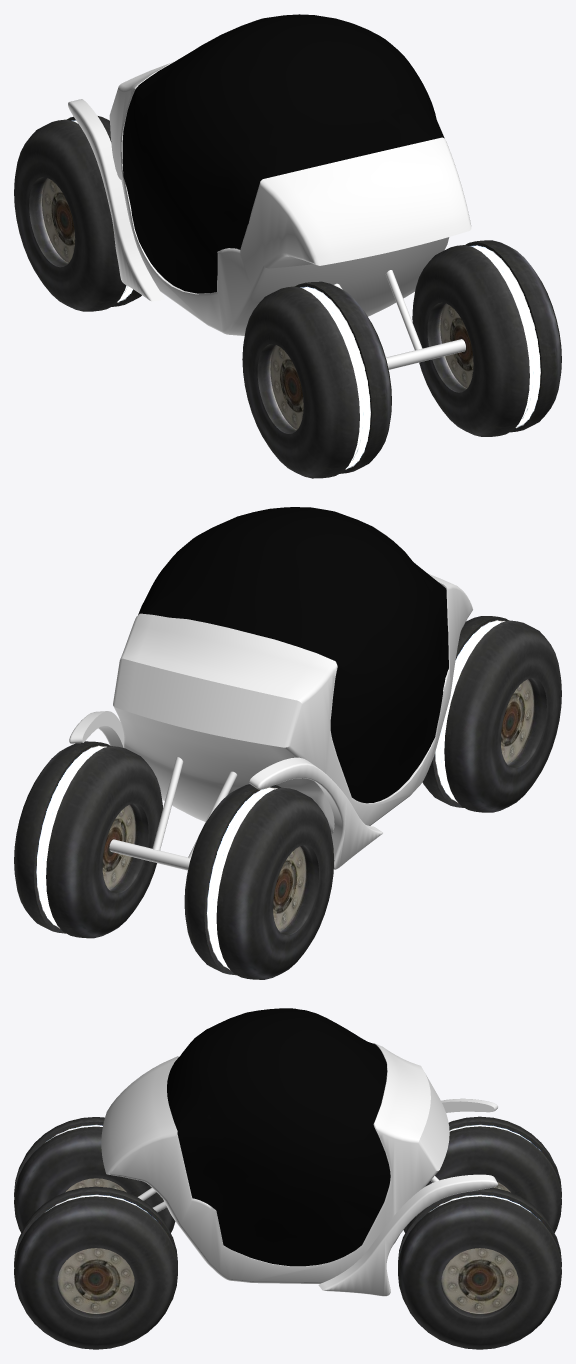
The model's file is car.glb.
3 views of the same model, one above another, from view 1: azimuth 30°, elevation 25°; view 2: azimuth 150°, elevation 25°; view 3: azimuth 270°, elevation 25° (orthographic). The views are drawn at different scales.
Visible parts, largest first — view 1: roof, body, wheelBL, wheelBR, wheelTL, fender, suspensions; view 2: roof, body, wheelTL, wheelTR, wheelBL, fender, suspensions; view 3: roof, body, wheelBR, wheelTR, wheelTL, wheelBL, fender.
Part boxes in pixels (x1,y1,x2,y2): roof: [122, 14, 444, 293]; body: [109, 59, 471, 335]; wheelBL: [242, 281, 391, 478]; wheelBR: [412, 240, 561, 436]; wheelTL: [14, 116, 141, 311]; fender: [68, 99, 164, 301]; suspensions: [334, 270, 465, 369]; roof: [138, 507, 448, 803]; body: [113, 573, 472, 836]; wheelTL: [184, 784, 334, 979]; wheelTR: [14, 741, 162, 938]; wheelBL: [422, 616, 561, 812]; fender: [69, 711, 382, 869]; suspensions: [109, 757, 237, 870]; roof: [167, 1008, 390, 1266]; body: [101, 1043, 449, 1283]; wheelBR: [14, 1186, 177, 1349]; wheelTR: [398, 1187, 561, 1349]; wheelTL: [403, 1116, 561, 1232]; wheelBL: [14, 1117, 175, 1232]; fender: [318, 1098, 497, 1296].
Size of what is drawn, in the model's own units: 1.93 by 2.39 by 4.15.
3 materials, 1 textured.
